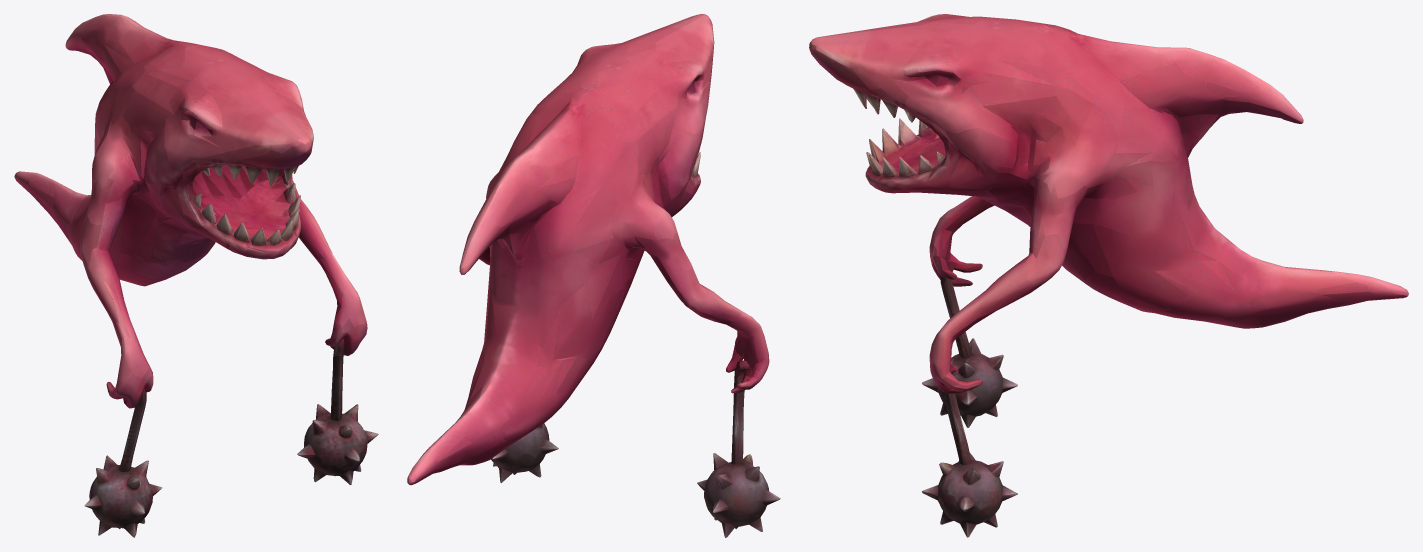
File: wraith.glb
3 renders of one model, left to right at view 1: azimuth 30°, elevation 25°; view 2: azimuth 150°, elevation 25°; view 3: azimuth 270°, elevation 25°, orthographic. The views are drawn at different scales.
Visible parts, largest first — view 1: Mesh_0; view 2: Mesh_0; view 3: Mesh_0.
Boxes of the visible parts, left/top/right/bottom form: Mesh_0: left=14, top=14, right=378, bottom=537; Mesh_0: left=407, top=14, right=780, bottom=537; Mesh_0: left=809, top=14, right=1408, bottom=537.
Size of the model in its own units: 1.11 by 1.56 by 1.9.
1 material, 1 textured.
